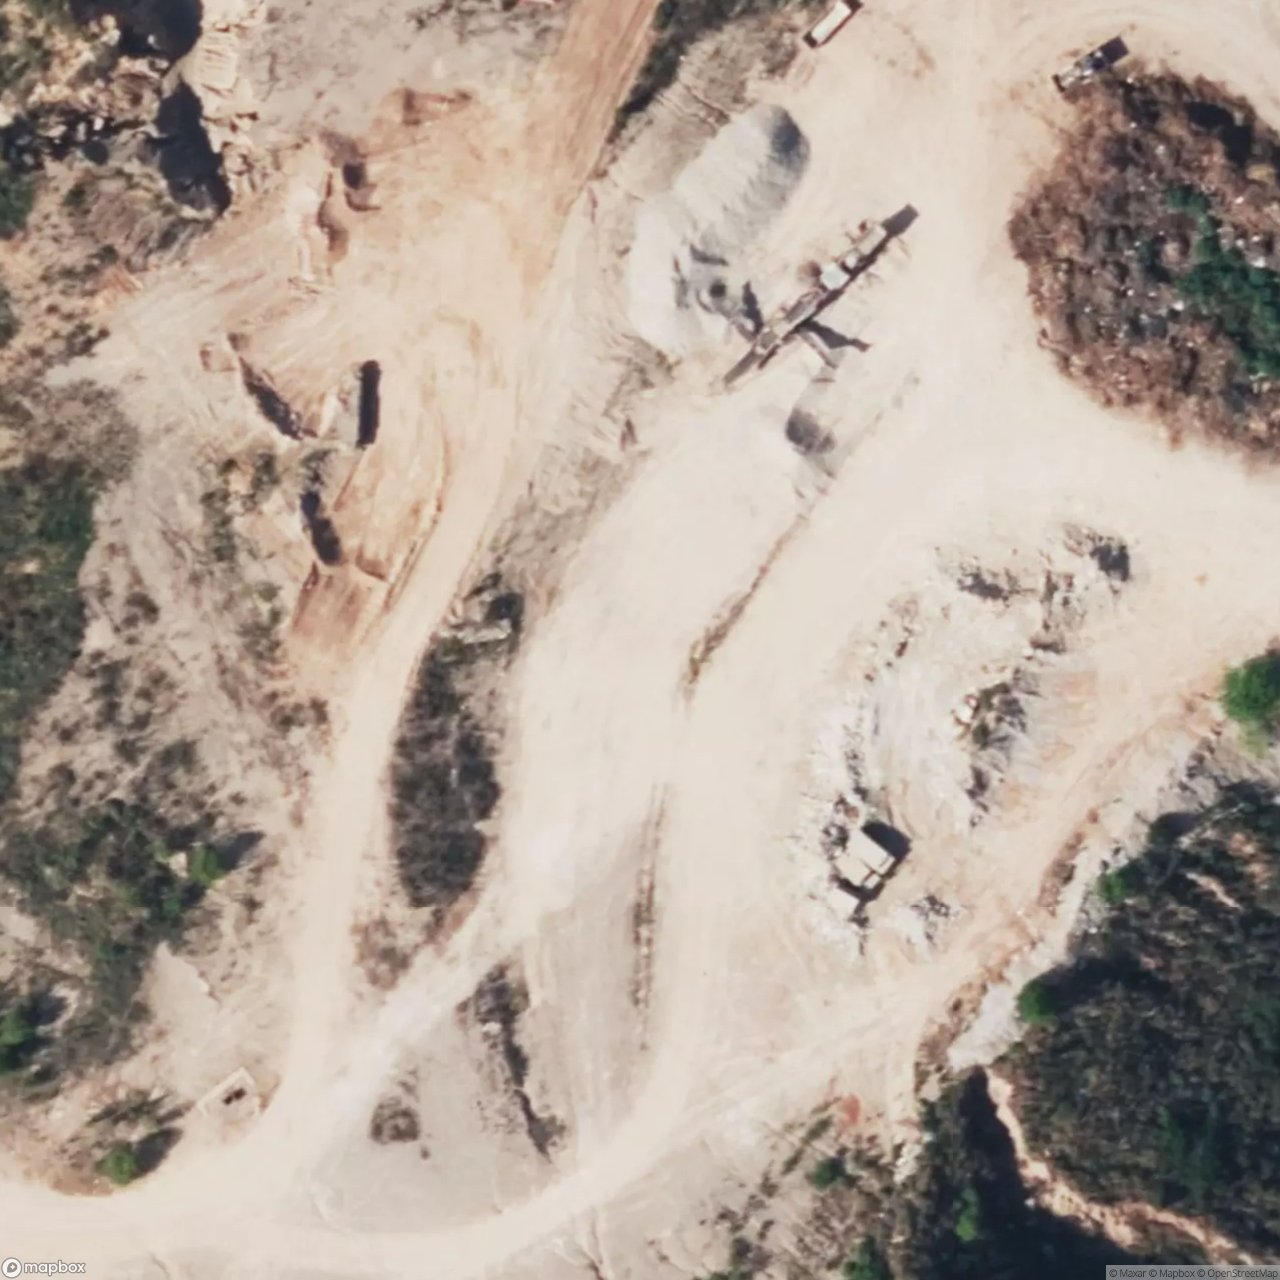dump_site: (979, 57, 1280, 483)
